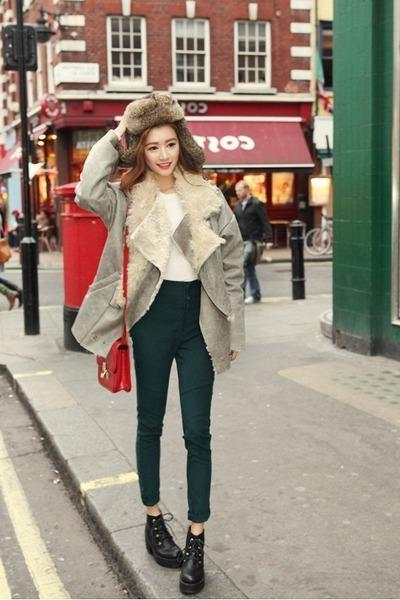jacket: (74, 131, 252, 370)
short sleeve shirt: (150, 185, 200, 288)
trousers: (122, 277, 219, 516)
